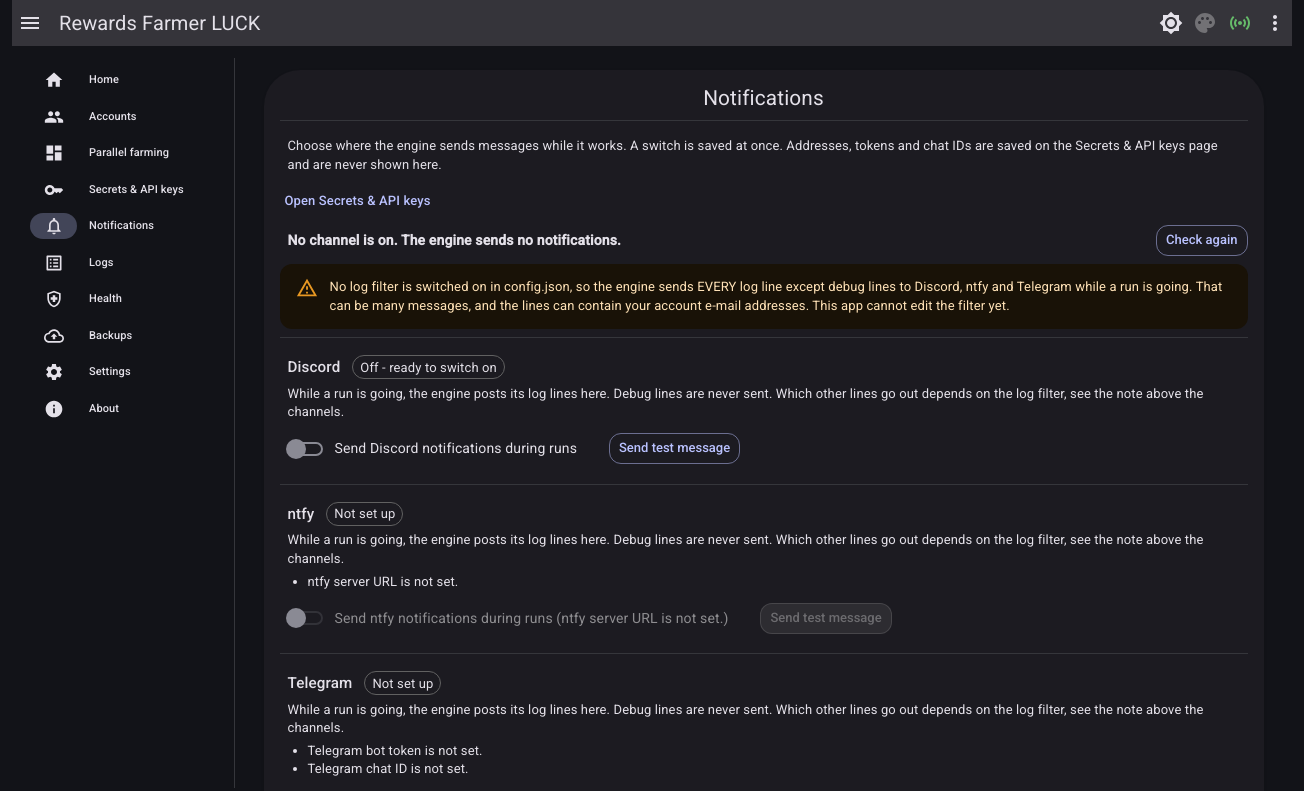
Test: Notifications page (Phase 17) › the test button reports the real result and keeps it on screen
This screenshot has width=1304, height=791.
expect the element with test id "notify-card-discord" is shown: met, box [280,337,1248,484]
Click the button with aria-label "Send test message to Discord".
click(675, 449)  # box [609,434,740,464]
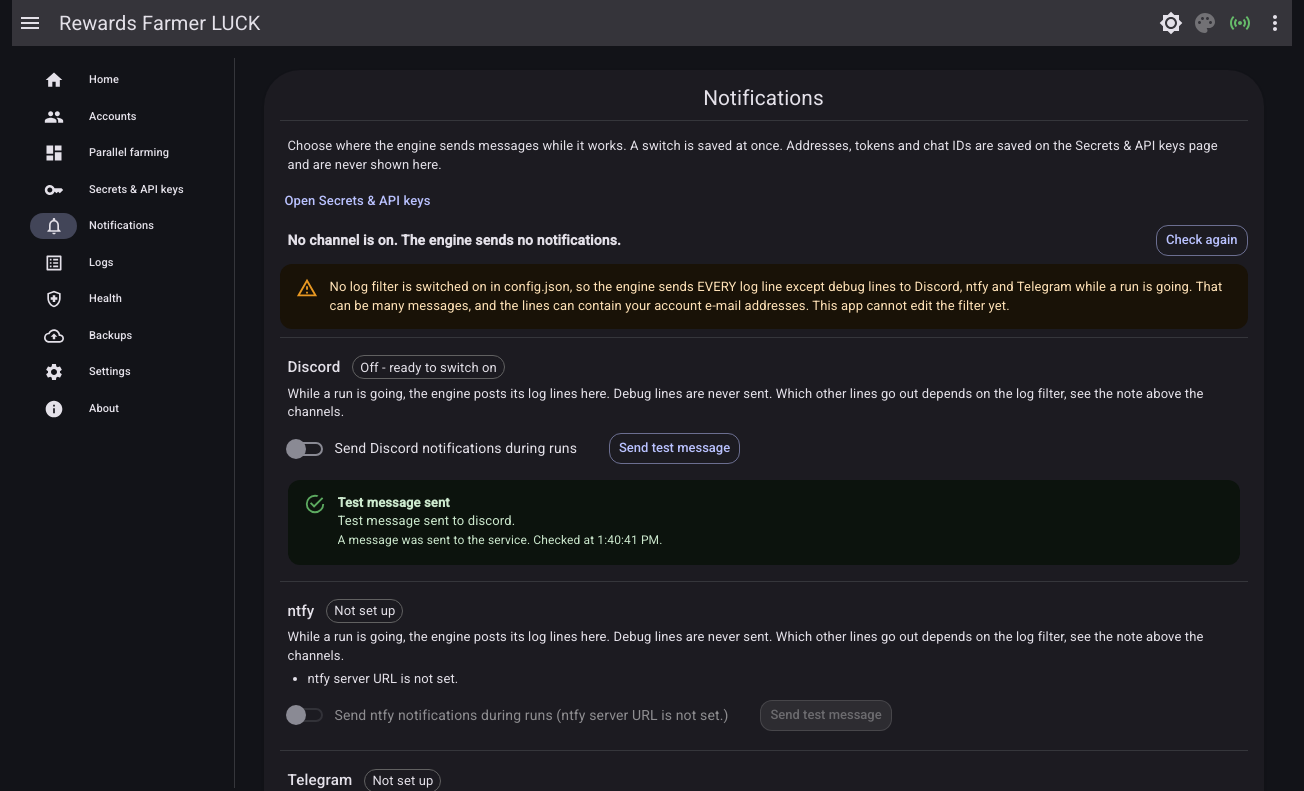
expect the message with test id "notify-result-discord" shows "Test message sent": met, box [338,495,450,510]
expect the message with test id "notify-result-discord" shows "Test message sent to discord.": met, box [338,513,515,528]
expect the message with test id "notify-result-discord" shows "A message was sent to the service.": met, box [338,533,662,547]
